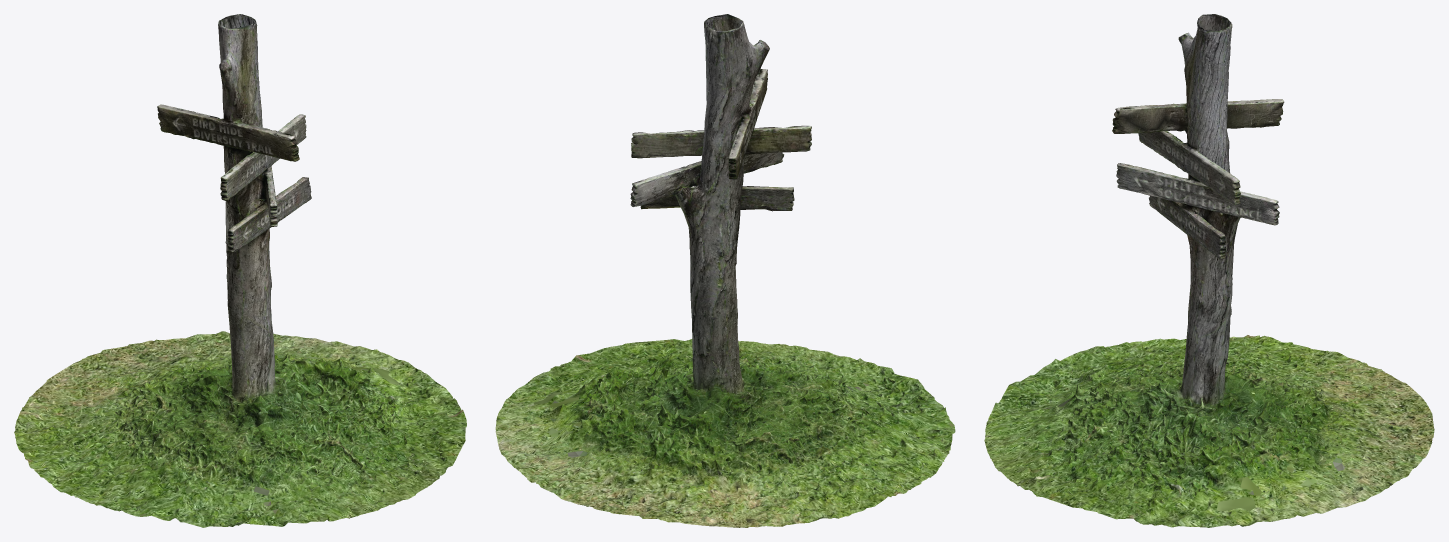
The model's file is guideposts.glb.
3 renders of one model, left to right at view 1: azimuth 30°, elevation 25°; view 2: azimuth 150°, elevation 25°; view 3: azimuth 270°, elevation 25°, orthographic.
Parts seen in each view (by area): view 1: Object_2; view 2: Object_2; view 3: Object_2.
Part boxes in pixels (x1,y1,x2,y2): Object_2: (14,14,466,527); Object_2: (495,14,955,527); Object_2: (984,14,1434,527).
Size of the model in its own units: 43.36 by 43.86 by 42.83.
Materials: 1 (1 with a texture image).
